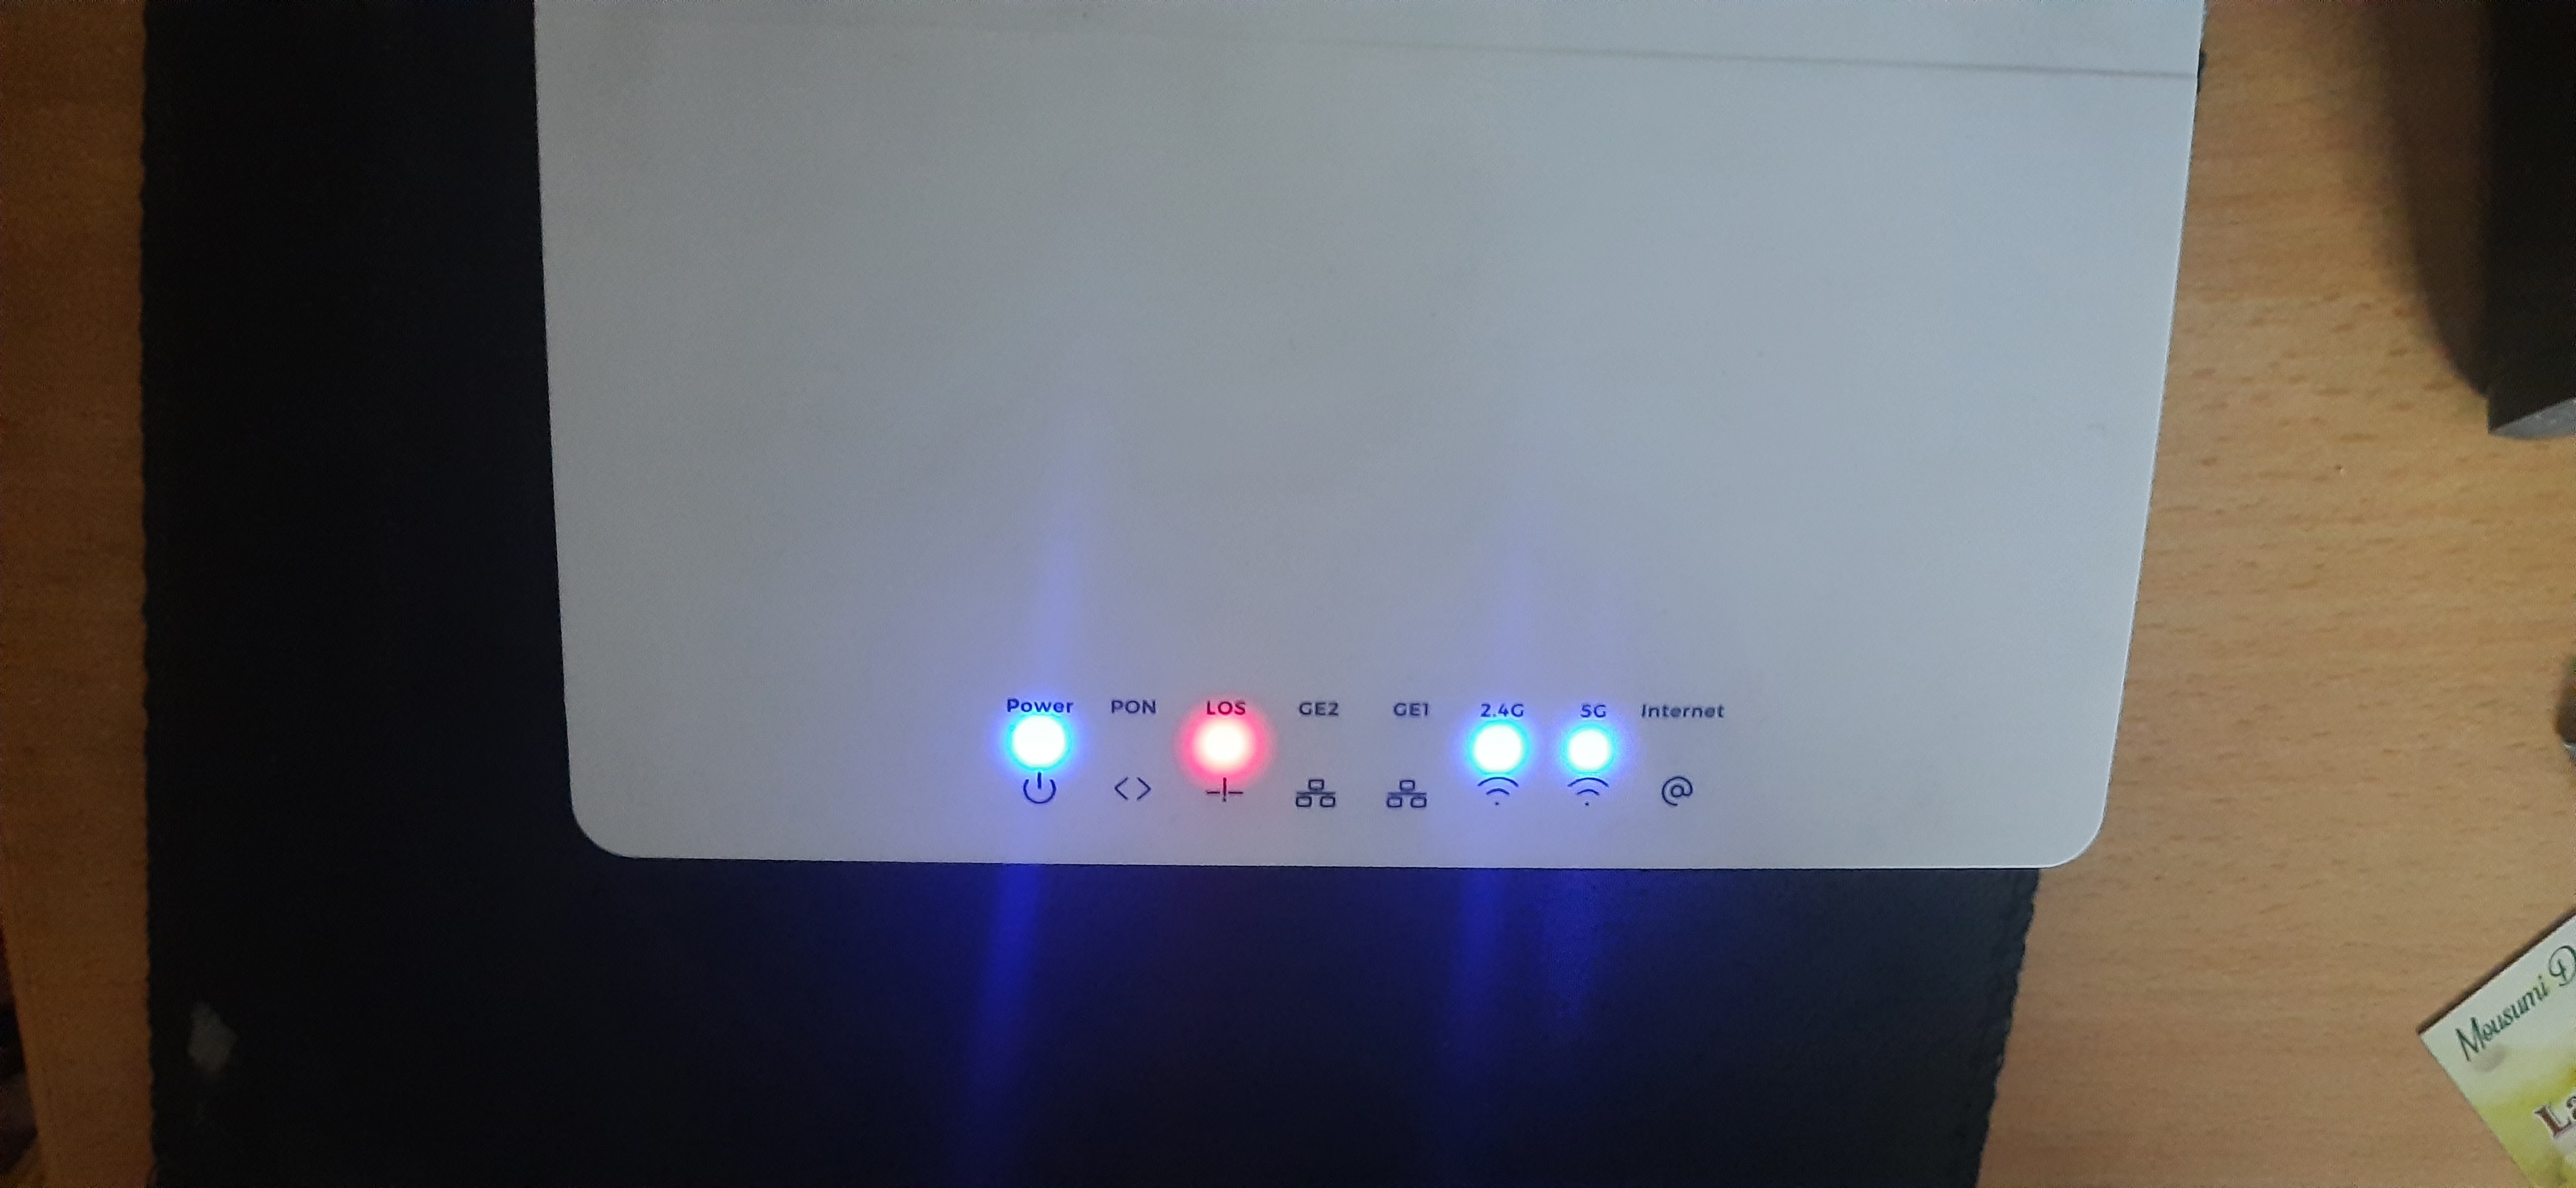LOSConnectionIssue: (1163, 662, 1295, 840)
